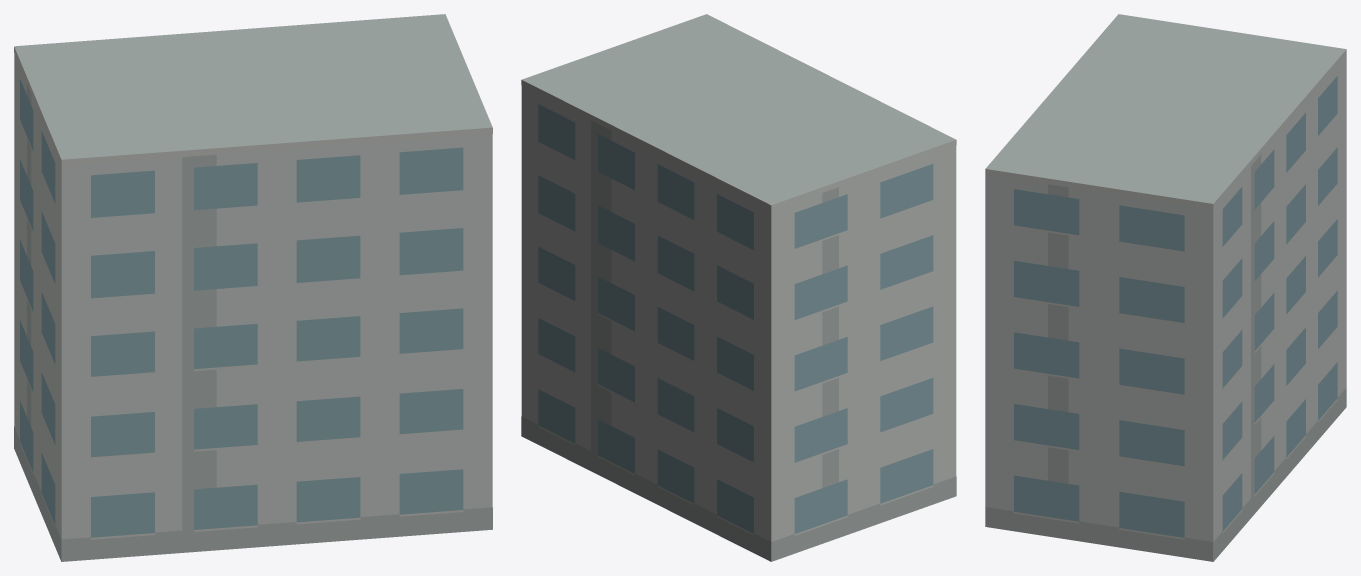
The model's file is residential-8bc94b48-b4fe-4b7c-8300-a8154a5b3218.glb.
3 renders of one model, left to right at view 1: azimuth 30°, elevation 25°; view 2: azimuth 150°, elevation 25°; view 3: azimuth 270°, elevation 25°, orthographic. The views are drawn at different scales.
Visible parts, largest first — view 1: residential-8bc94b48-b4fe-4b7c-8300-a8154a5b3218.tmp; view 2: residential-8bc94b48-b4fe-4b7c-8300-a8154a5b3218.tmp; view 3: residential-8bc94b48-b4fe-4b7c-8300-a8154a5b3218.tmp.
Boxes of the visible parts, x1,y1,x2,y2 form: residential-8bc94b48-b4fe-4b7c-8300-a8154a5b3218.tmp: (14, 14, 492, 561); residential-8bc94b48-b4fe-4b7c-8300-a8154a5b3218.tmp: (521, 14, 956, 561); residential-8bc94b48-b4fe-4b7c-8300-a8154a5b3218.tmp: (985, 14, 1346, 561).
Bounding box in the file's own units: 17.36 × 15.25 × 13.96.
